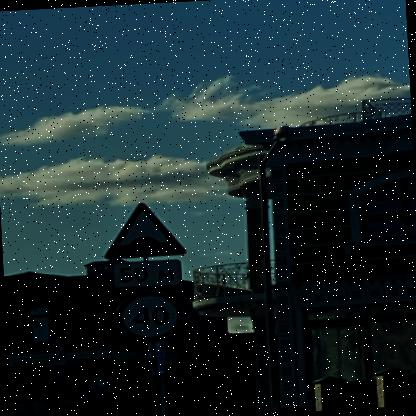crosswalk: (51, 364, 66, 380)
speedlimit: (111, 290, 183, 340)
